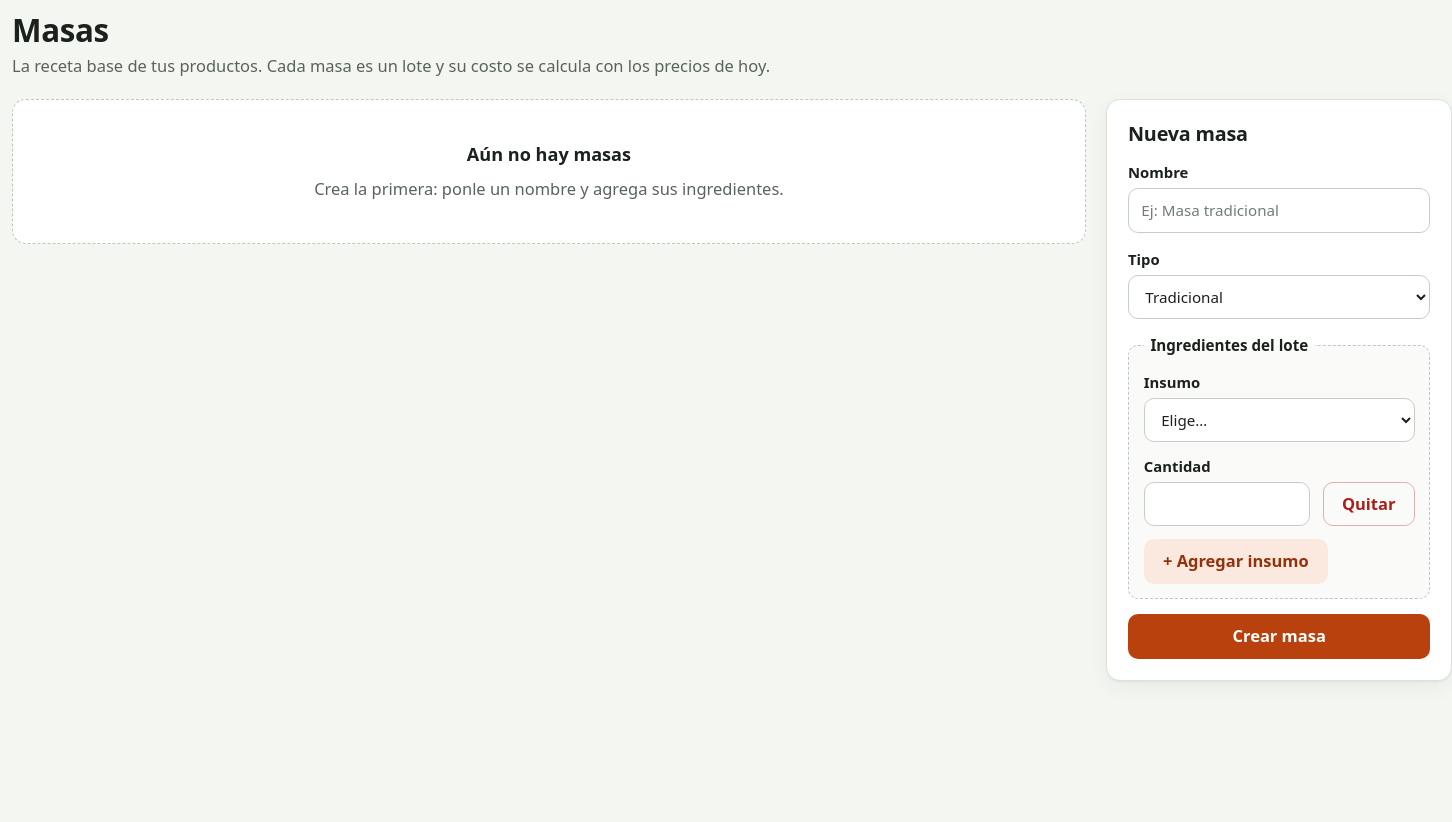
Scenario: HU-31 Cocina y costos › CA-7: muestra el costo del lote mientras se escribe la receta
Select "Harina (kg)" in the dropdown labelled "Insumo": (1279, 420) x1=1144 y1=398 x2=1415 y2=442
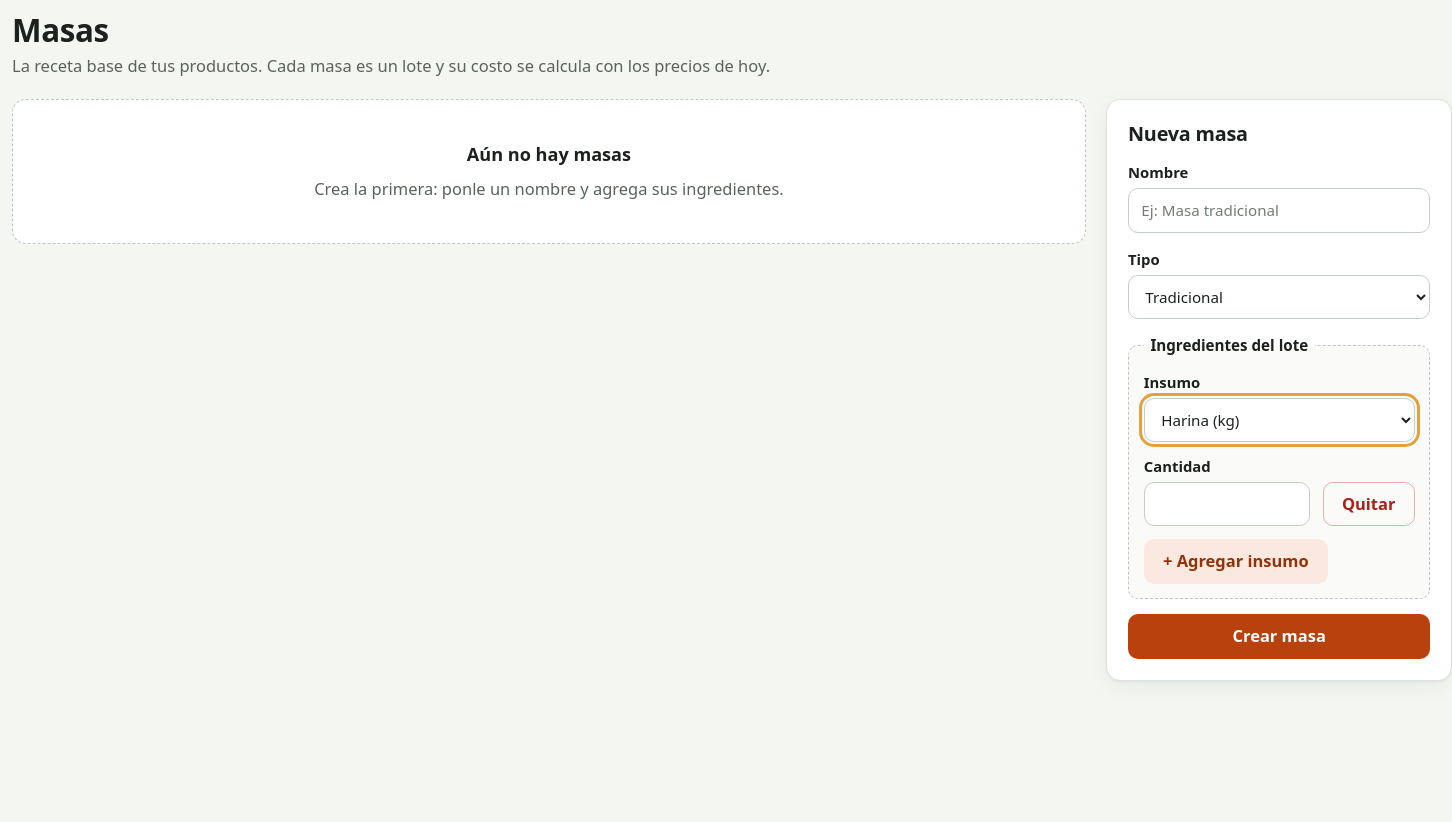
In the number field labelled "Cantidad": (1227, 504) x1=1144 y1=482 x2=1310 y2=526, type "4"
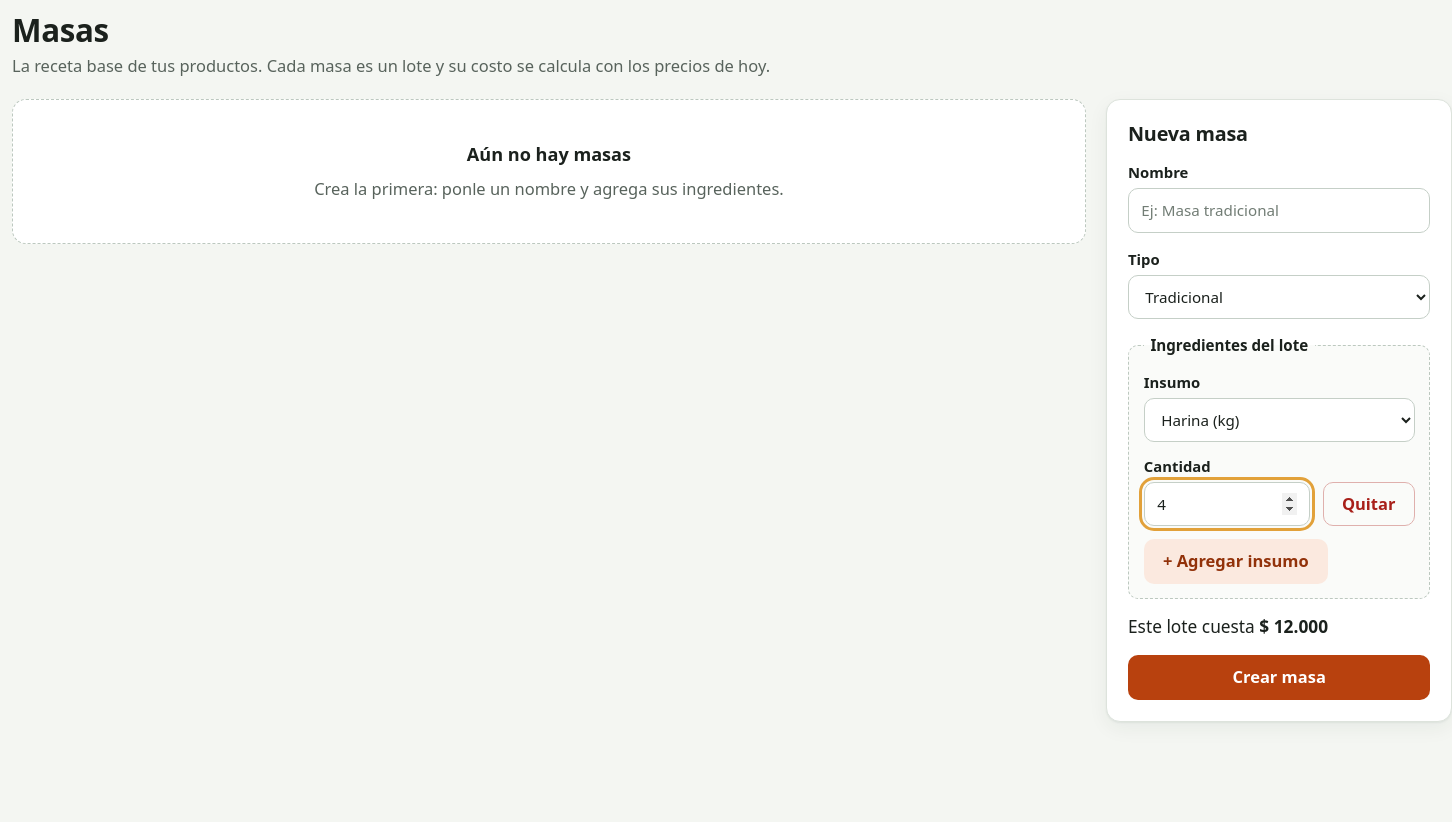
Check: the text "Este lote cuesta $ 12.000" is shown, box x1=1128 y1=615 x2=1328 y2=638
